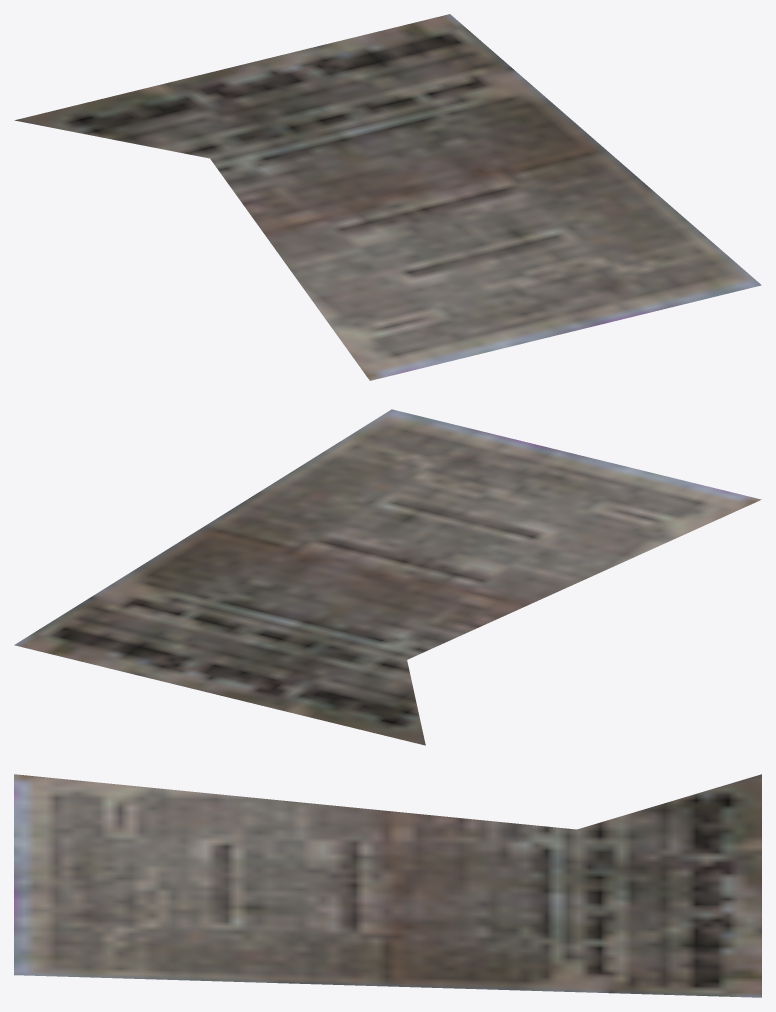
The model's file is M_Home_Garden_paper08.fbx.
3 views of the same model, one above another, from view 1: azimuth 30°, elevation 25°; view 2: azimuth 150°, elevation 25°; view 3: azimuth 270°, elevation 25° (orthographic). The views are drawn at different scales.
Parts seen in each view (by area): view 1: M_Home_Garden_paper08; view 2: M_Home_Garden_paper08; view 3: M_Home_Garden_paper08.
Boxes of the visible parts, x1,y1,x2,y2 form: M_Home_Garden_paper08: (14,14,761,380); M_Home_Garden_paper08: (14,409,761,745); M_Home_Garden_paper08: (14,774,761,997).
Size of the model in its own units: 30.2 by 0 by 42.69.
